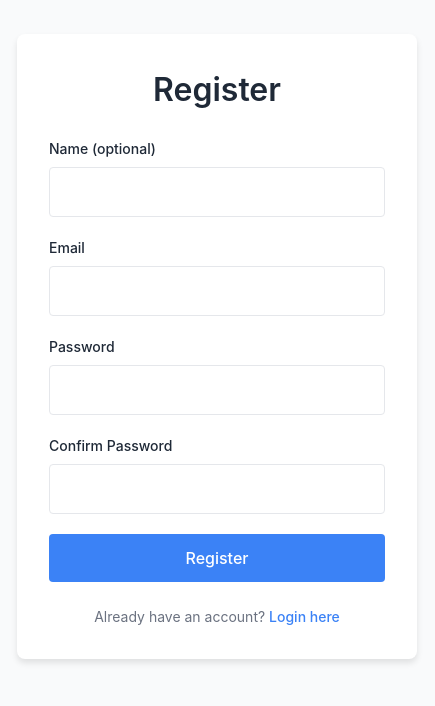
Scenario: RegisterPage › error handling › should display conflict error for duplicate email
In the field labelled "Email": (217, 290) top-left (49, 266), bottom-right (385, 316), type "existing@example.com"
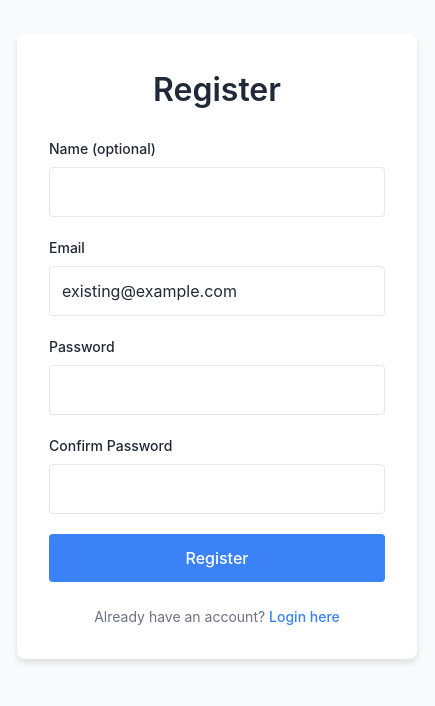
In the password field labelled "Password": (217, 390) top-left (49, 364), bottom-right (385, 414), type "ValidPass123!"
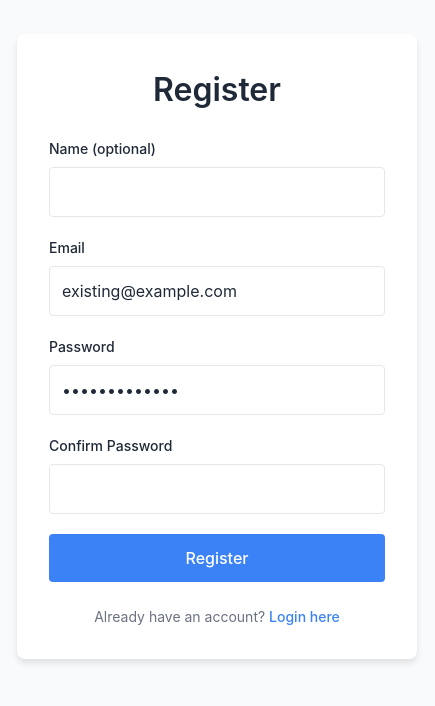
In the password field labelled "Confirm Password": (217, 488) top-left (49, 464), bottom-right (385, 514), type "ValidPass123!"
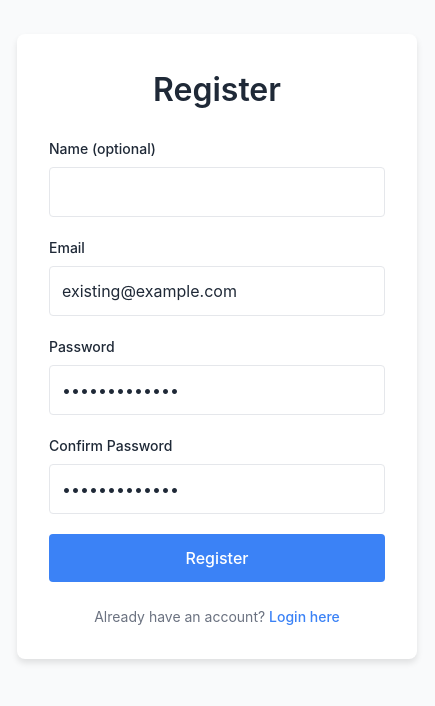
Click the button "Register": (217, 558) top-left (49, 534), bottom-right (385, 582)
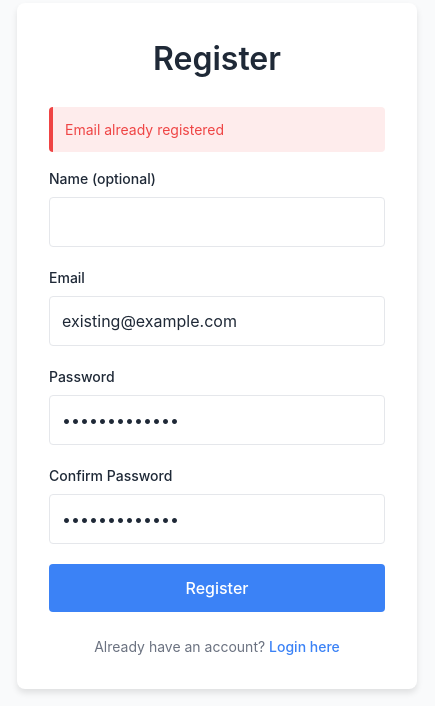
Expected: the text "Email already registered" is shown, top-left (49, 107), bottom-right (385, 152)
